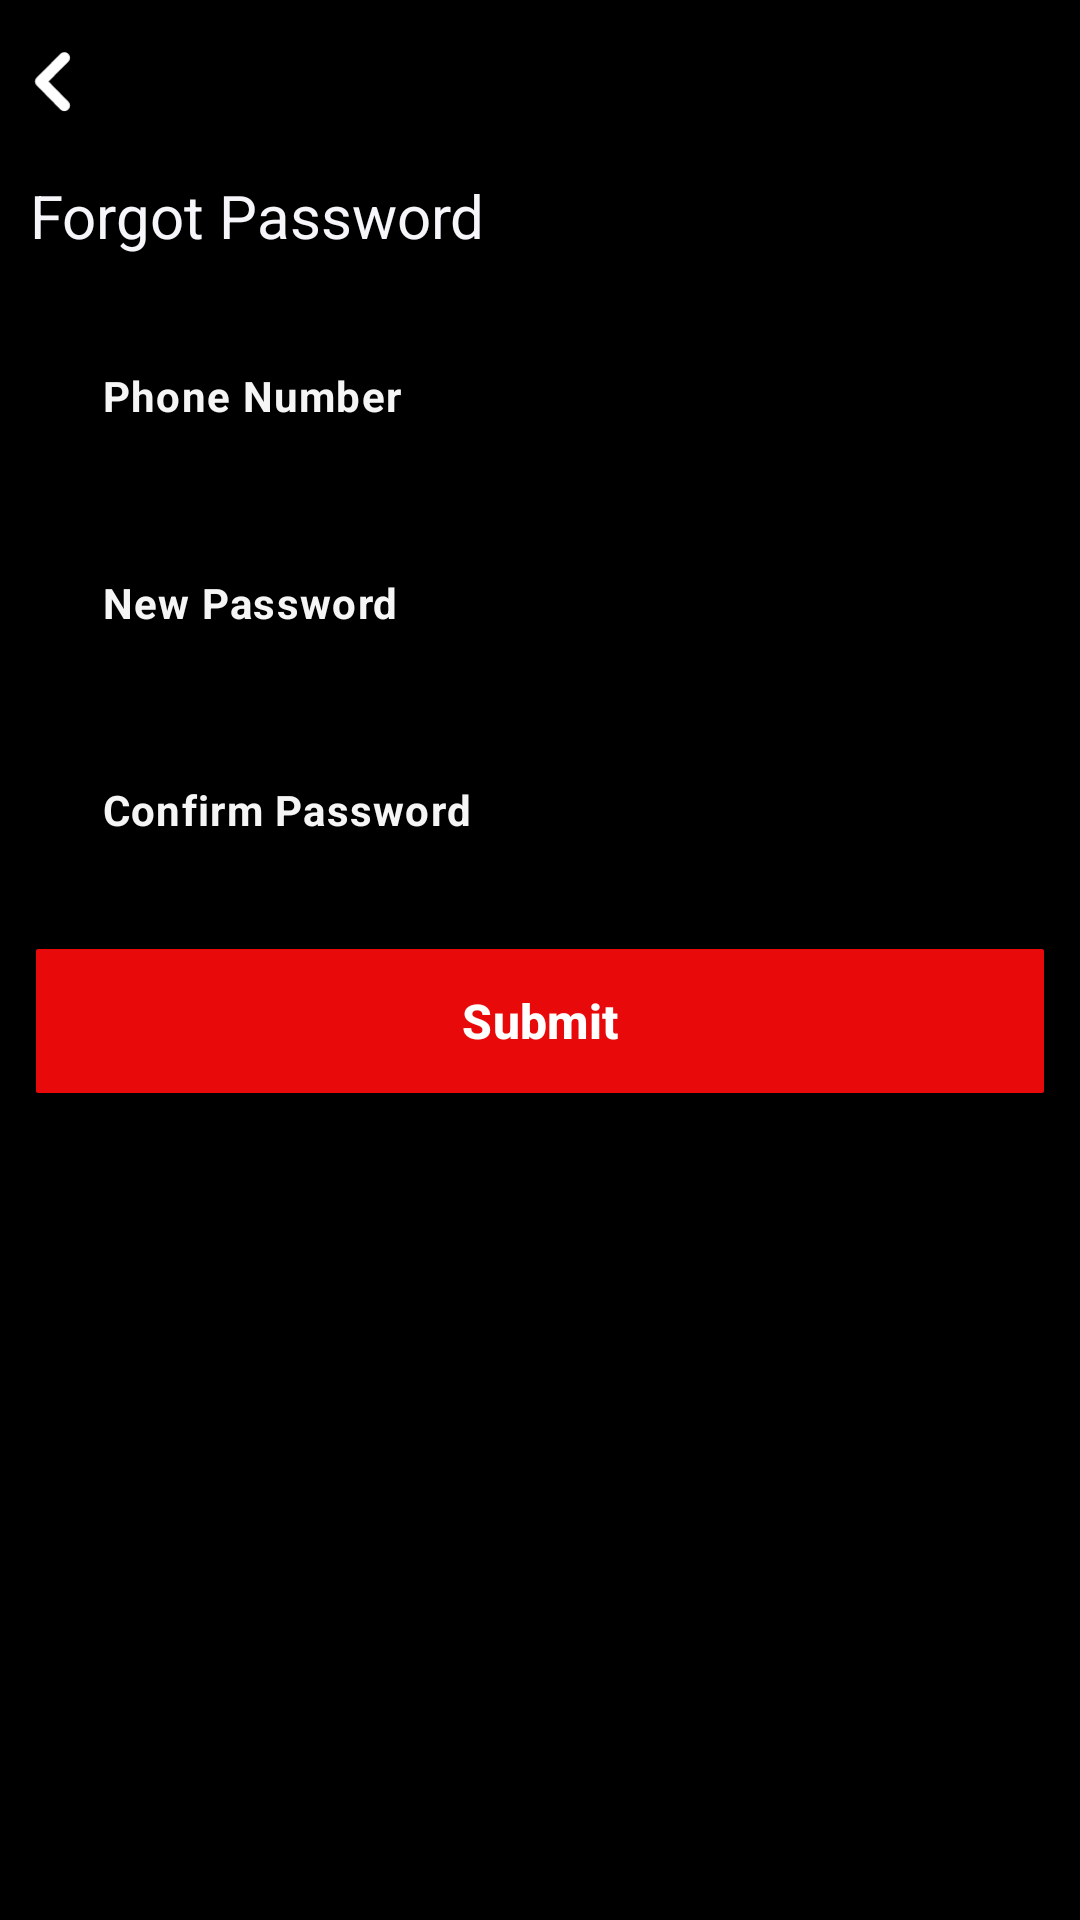

Where to tap for icons on this 1080×1920 app screen, as [x,y]:
left arrow: [52,81]
